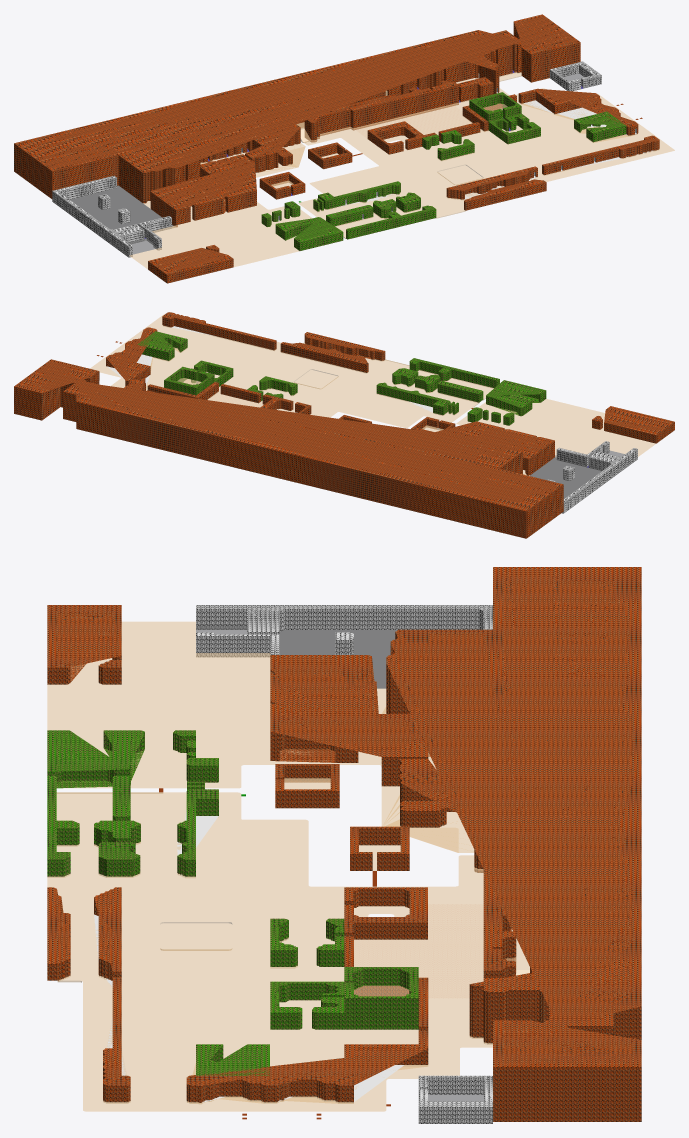
Rendered from Zelda Map.fbx.
The picture shows the model from 3 angles, top to bottom: view 1: azimuth 30°, elevation 25°; view 2: azimuth 150°, elevation 25°; view 3: azimuth 270°, elevation 25°; orthographic projection. The views are drawn at different scales.
Visible parts, largest first — view 1: Mountains1, Land1; view 2: Mountains1, Land1; view 3: Mountains1, Land1.
Boxes of the visible parts, x1=… form: Mountains1: x1=14, y1=14, x2=659, y2=283; Land1: x1=71, y1=72, x2=674, y2=268; Mountains1: x1=14, y1=312, x2=674, y2=538; Land1: x1=90, y1=314, x2=655, y2=498; Mountains1: x1=47, y1=567, x2=641, y2=1123; Land1: x1=47, y1=621, x2=529, y2=1111.
Size of the model in its own units: 256 by 14 by 128.
